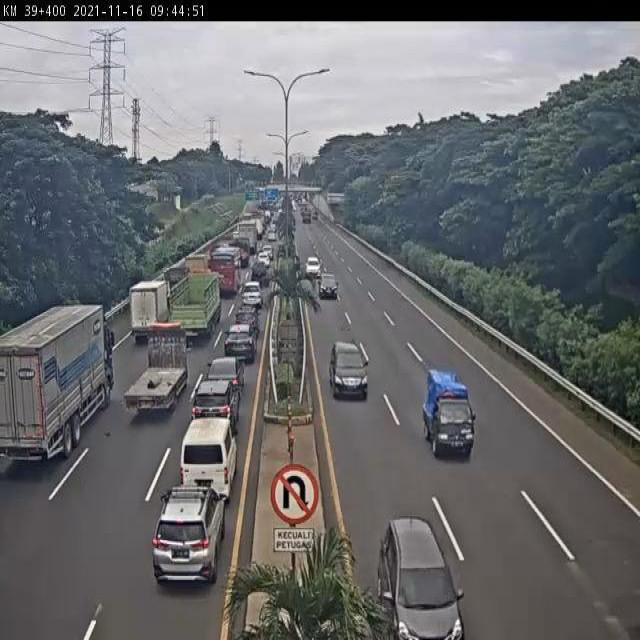big bus: (207, 247, 244, 296)
car: (372, 516, 466, 640), (150, 490, 222, 586), (420, 369, 474, 454), (183, 419, 238, 500), (188, 382, 236, 447), (328, 340, 368, 399), (205, 355, 246, 396), (223, 327, 255, 365), (232, 308, 259, 335), (236, 288, 261, 316), (319, 275, 337, 300)
small truck: (127, 283, 171, 348), (179, 248, 208, 291)
truck-l-: (2, 312, 112, 469), (167, 272, 219, 347)
truck-m-: (124, 329, 187, 415)
